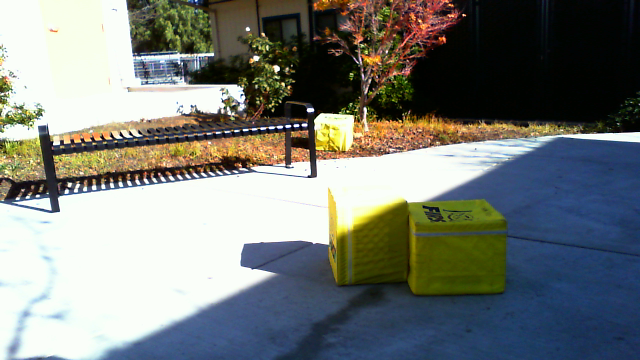cube: (405, 198, 508, 296), (327, 187, 408, 285), (313, 113, 354, 152)
